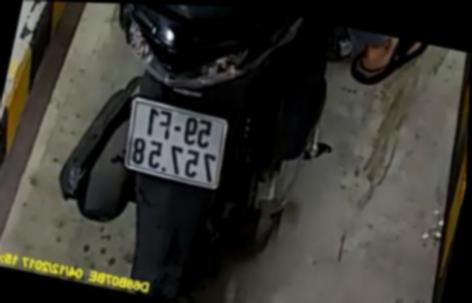License_Plate: (118, 99, 233, 187)
